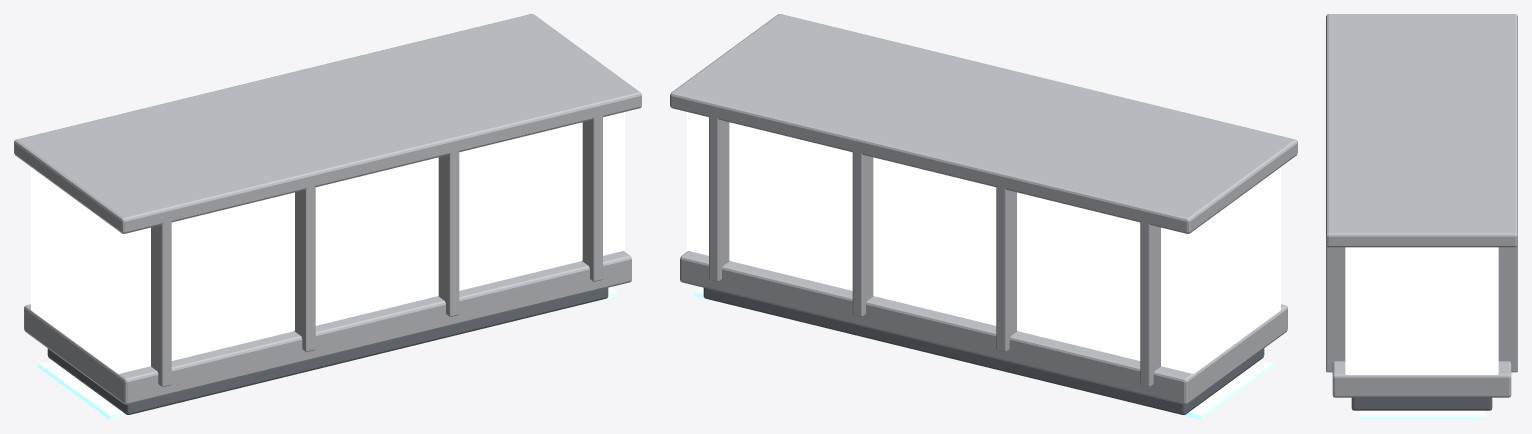
The model's file is bridge_4.glb.
3 views of the same model, side by side, from view 1: azimuth 30°, elevation 25°; view 2: azimuth 150°, elevation 25°; view 3: azimuth 270°, elevation 25° (orthographic). The views are drawn at different scales.
Parts seen in each view (by area): view 1: ext_bridge_glass, ext_bridge_roof, ext_bridge_floor, ext_bridge_ribs, ext_bridge_under, ext_bridge_glow; view 2: ext_bridge_glass, ext_bridge_roof, ext_bridge_floor, ext_bridge_ribs, ext_bridge_under, ext_bridge_glow; view 3: ext_bridge_roof, ext_bridge_glass, ext_bridge_ribs, ext_bridge_floor, ext_bridge_under, ext_bridge_glow.
Boxes of the visible parts, bbox=[...] form: ext_bridge_glass: bbox=[31, 112, 624, 373]; ext_bridge_roof: bbox=[14, 14, 641, 233]; ext_bridge_floor: bbox=[24, 251, 631, 404]; ext_bridge_ribs: bbox=[151, 109, 602, 386]; ext_bridge_under: bbox=[47, 288, 608, 414]; ext_bridge_glow: bbox=[38, 287, 617, 419]; ext_bridge_glass: bbox=[687, 112, 1280, 373]; ext_bridge_roof: bbox=[670, 14, 1297, 233]; ext_bridge_floor: bbox=[680, 251, 1287, 404]; ext_bridge_ribs: bbox=[709, 109, 1160, 386]; ext_bridge_under: bbox=[703, 288, 1264, 414]; ext_bridge_glow: bbox=[694, 287, 1273, 419]; ext_bridge_roof: bbox=[1326, 14, 1517, 247]; ext_bridge_glass: bbox=[1345, 247, 1498, 374]; ext_bridge_ribs: bbox=[1326, 245, 1517, 372]; ext_bridge_floor: bbox=[1332, 361, 1511, 397]; ext_bridge_under: bbox=[1351, 397, 1492, 410]; ext_bridge_glow: bbox=[1359, 410, 1484, 419].
Size of the model in its own units: 4.1 by 1.63 by 1.5.
